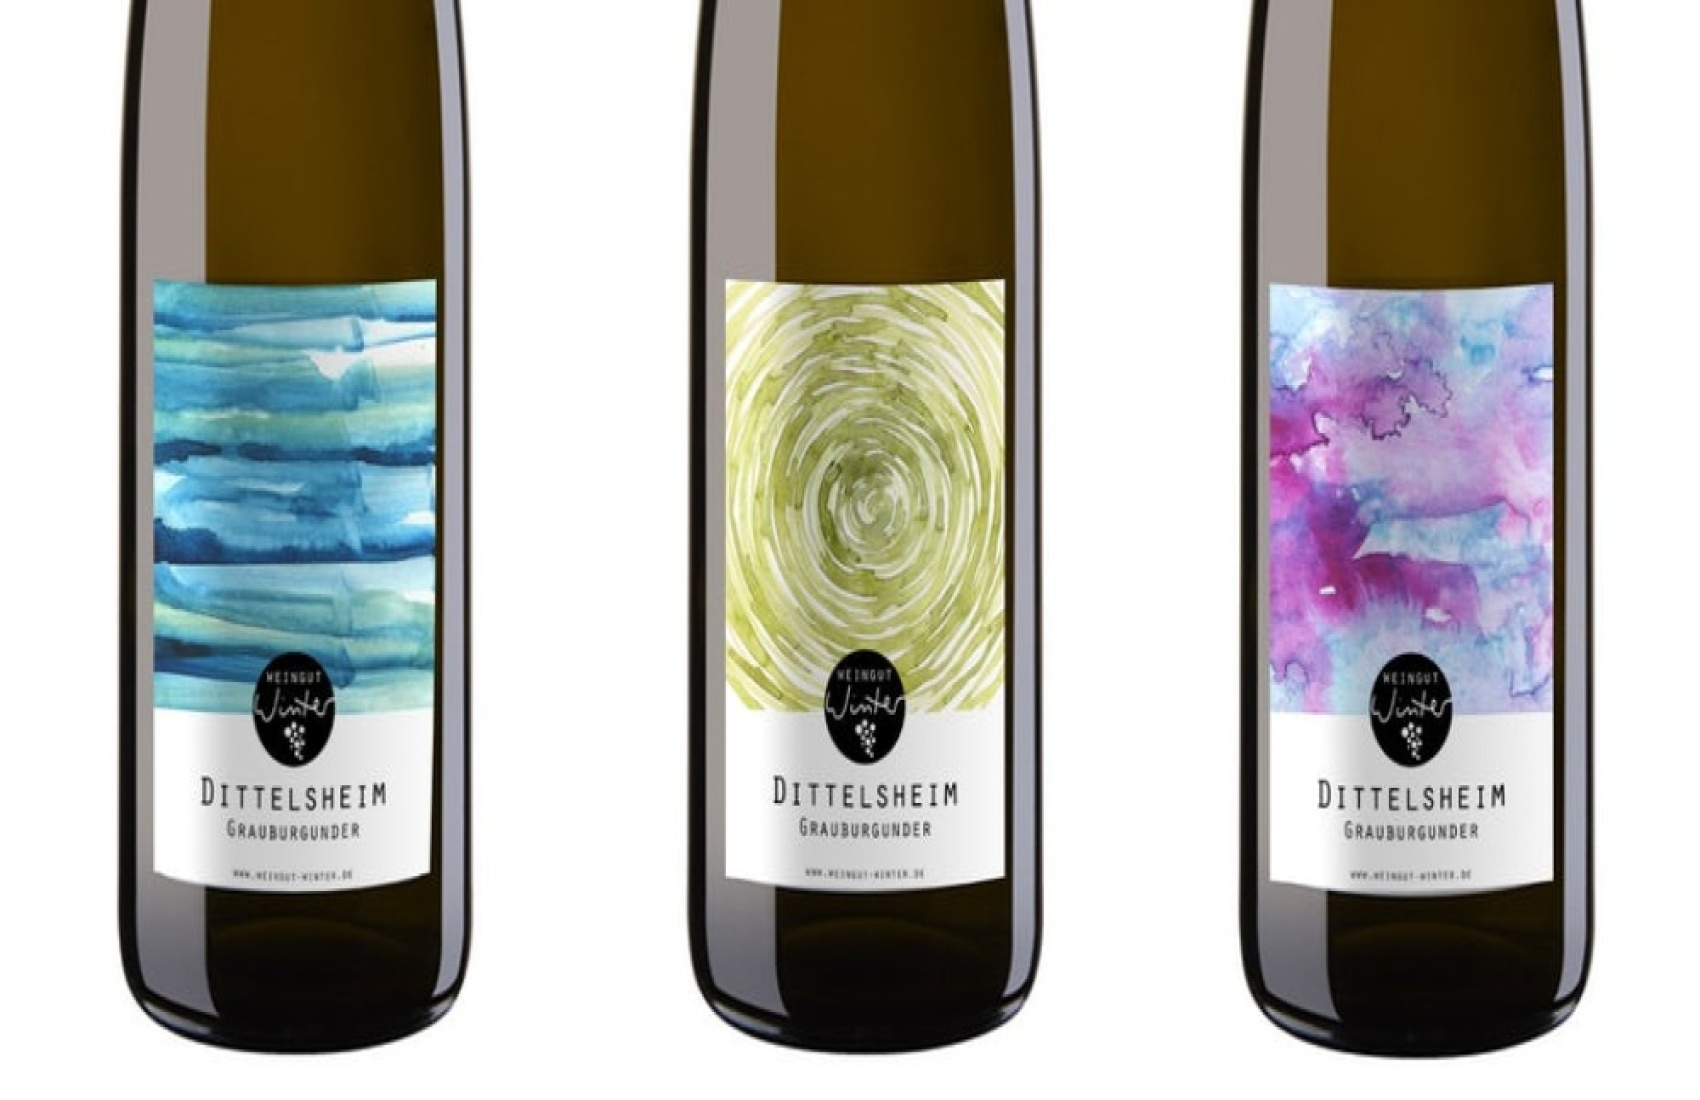wine: (691, 1, 1048, 1042), (108, 1, 465, 1042), (1244, 1, 1601, 1042)
